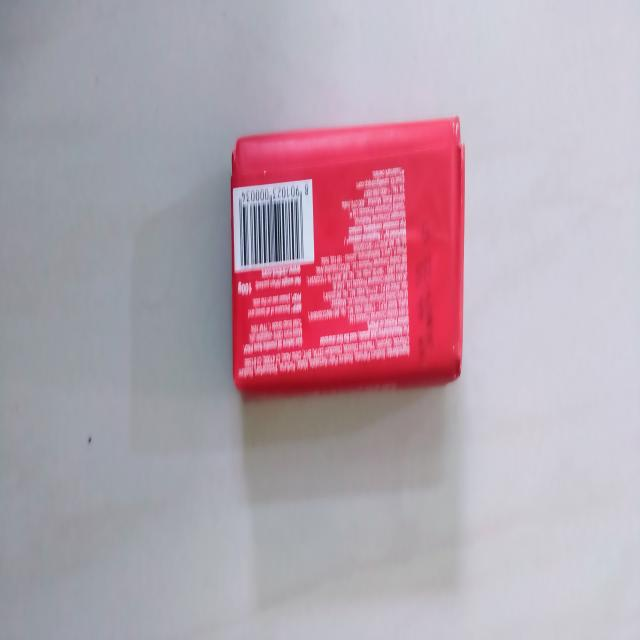soap: (227, 123, 468, 378)
